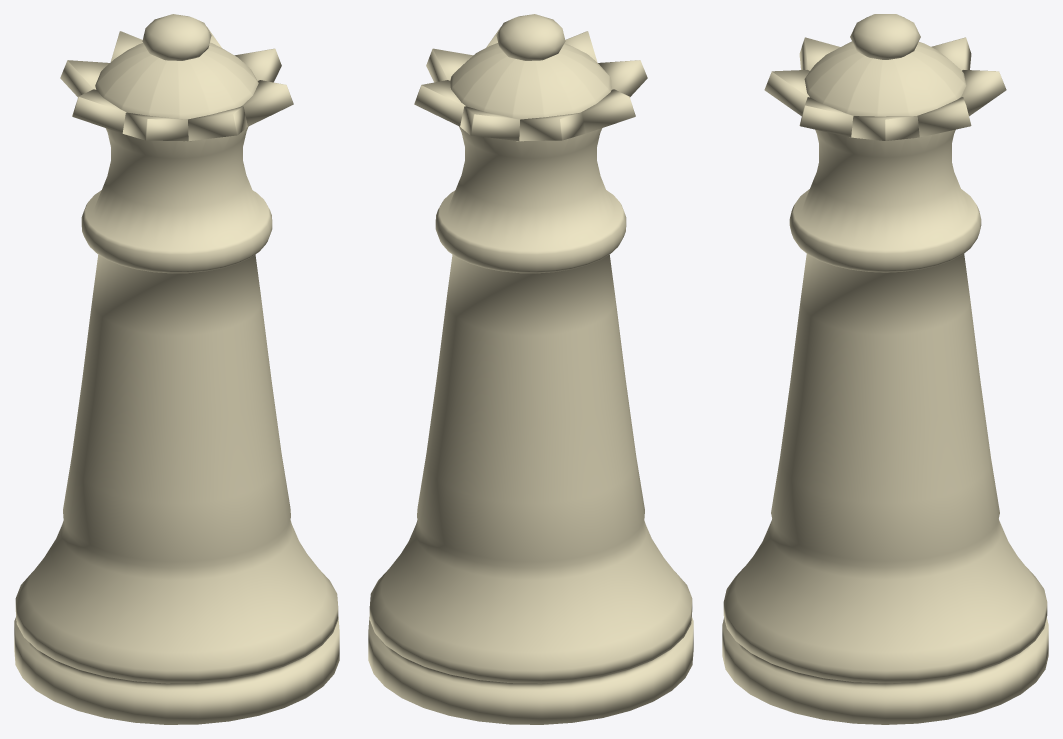
The model's file is queen.glb.
3 renders of one model, left to right at view 1: azimuth 30°, elevation 25°; view 2: azimuth 150°, elevation 25°; view 3: azimuth 270°, elevation 25°, orthographic.
Bounding box in the file's own units: 1.3 × 2.81 × 1.3.
